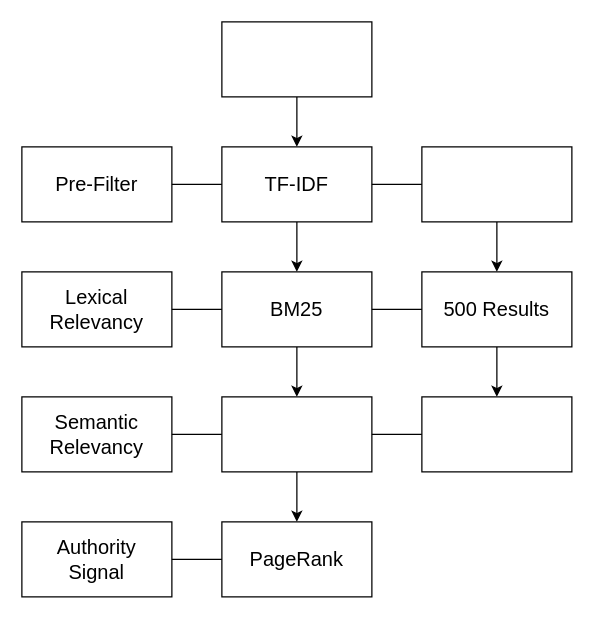
This 594x619 diagram has some shape labels left out. The centre of each missing label's shape, as x and y in pixels:
"100 Results" belongs at (x=496, y=434).
"1000 Results" belongs at (x=496, y=184).
"BERT" belongs at (x=296, y=434).
"User Query" belongs at (x=296, y=59).
